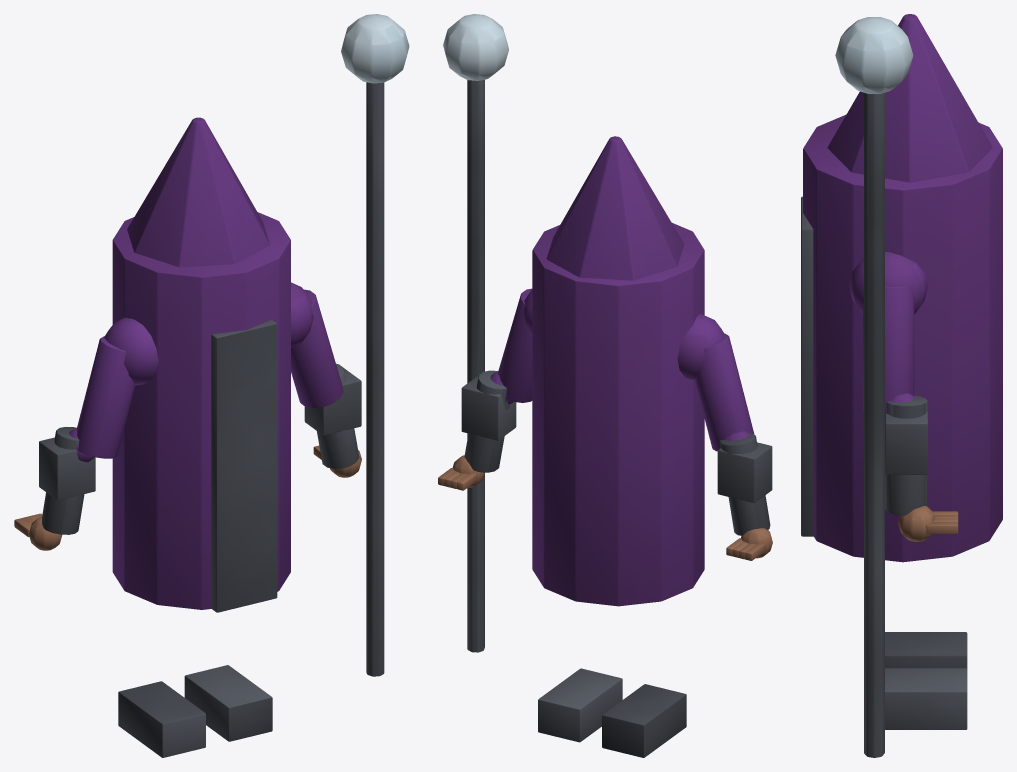
The model's file is unit_veiled_apprentice.fbx.
3 renders of one model, left to right at view 1: azimuth 30°, elevation 25°; view 2: azimuth 150°, elevation 25°; view 3: azimuth 270°, elevation 25°, orthographic. The views are drawn at different scales.
Visible parts, largest first — view 1: unit_veiled_apprentice; view 2: unit_veiled_apprentice; view 3: unit_veiled_apprentice.
Part boxes in pixels (x1,y1,x2,y2): unit_veiled_apprentice: (14,14,409,757); unit_veiled_apprentice: (438,14,772,757); unit_veiled_apprentice: (801,14,1002,757).
Bounding box in the file's own units: 1.28 × 2.37 × 0.5643.
